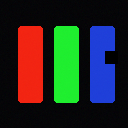1 square: (105, 51, 117, 63)
